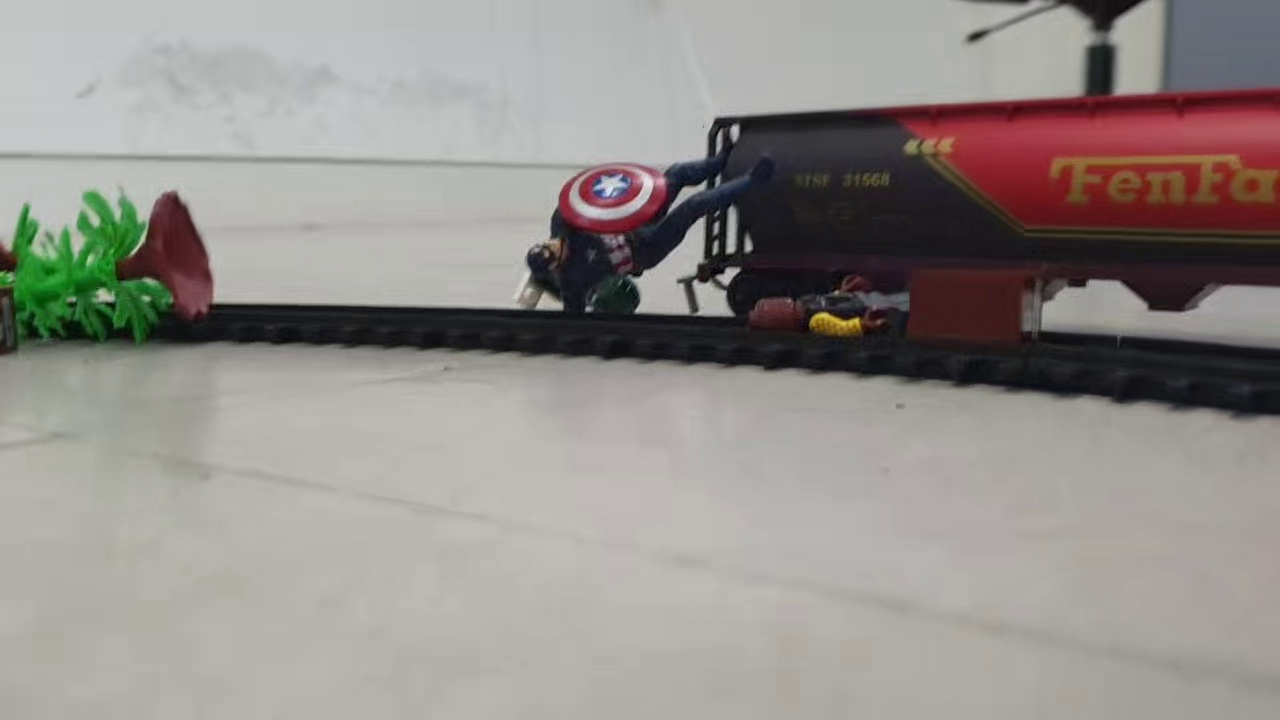box: (904, 261, 1045, 346)
people: (525, 126, 772, 295), (754, 275, 910, 343), (516, 262, 641, 323)
tree: (1, 187, 213, 346), (1, 203, 112, 296)
